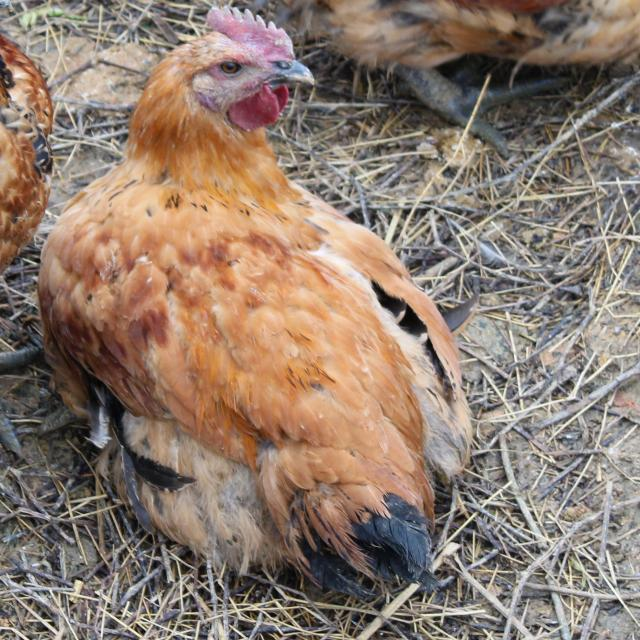hen: (39, 9, 470, 596)
